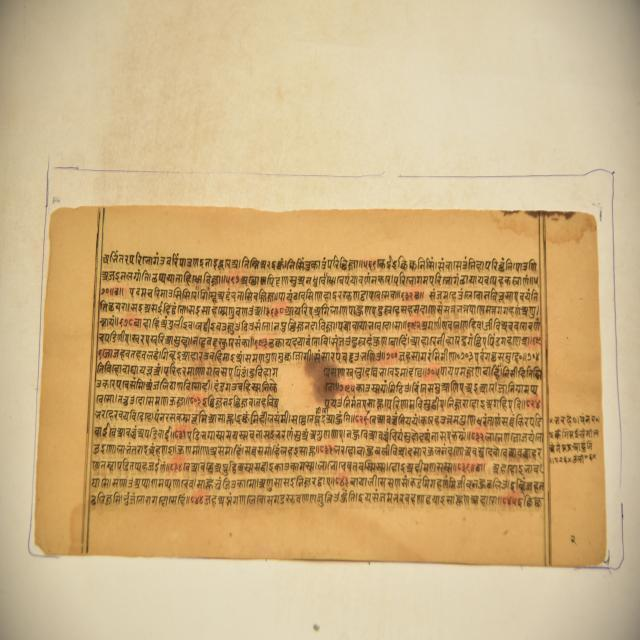text_paragraph: (33, 206, 608, 566)
